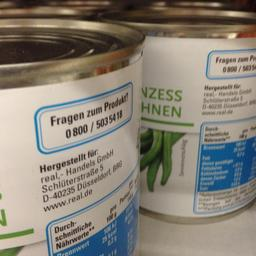beans: (0, 24, 144, 255)
